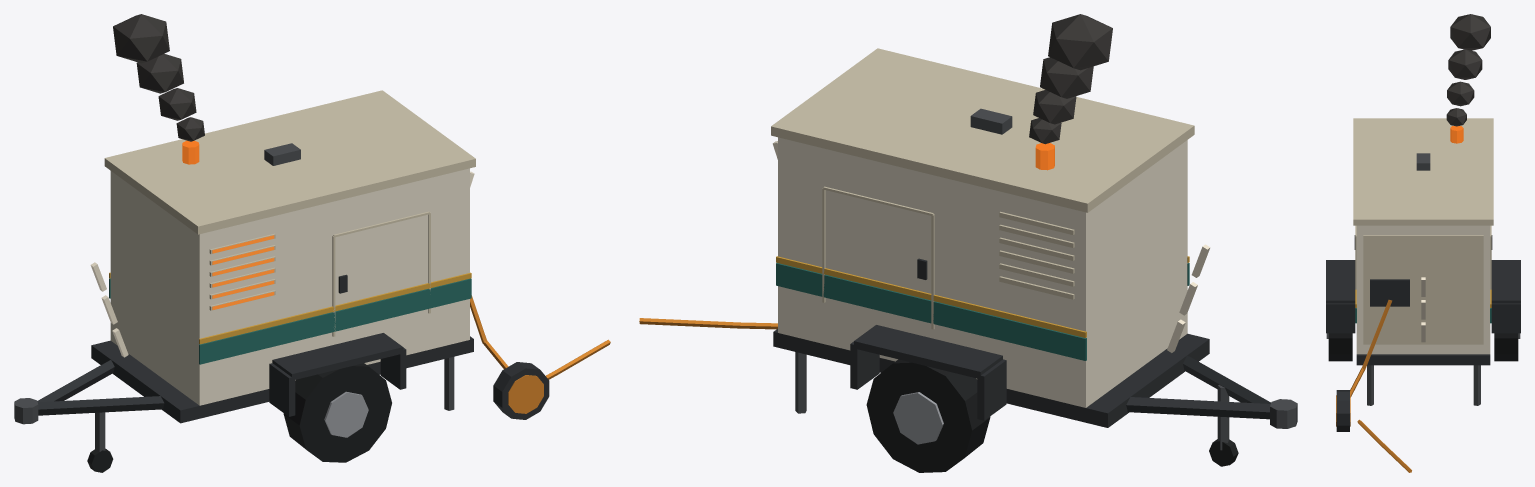
File: lwf_hire_generator_overloaded_v1.glb
3 renders of one model, left to right at view 1: azimuth 30°, elevation 25°; view 2: azimuth 150°, elevation 25°; view 3: azimuth 270°, elevation 25°, orthographic. The views are drawn at different scales.
Parts seen in each view (by area): view 1: LWF_HireGenerator_Base, LWF_HireGenerator_State_Overloaded; view 2: LWF_HireGenerator_Base, LWF_HireGenerator_State_Overloaded; view 3: LWF_HireGenerator_Base, LWF_HireGenerator_State_Overloaded.
Boxes of the visible parts, <box> form: LWF_HireGenerator_Base: <box>14,90,610,472</box>; LWF_HireGenerator_State_Overloaded: <box>90,14,508,368</box>; LWF_HireGenerator_Base: <box>639,48,1297,472</box>; LWF_HireGenerator_State_Overloaded: <box>772,14,1210,352</box>; LWF_HireGenerator_Base: <box>1326,118,1520,472</box>; LWF_HireGenerator_State_Overloaded: <box>1350,14,1490,397</box>.
Bounding box in the file's own units: 3.79 × 2.55 × 1.46.
2 materials, 2 textured.
